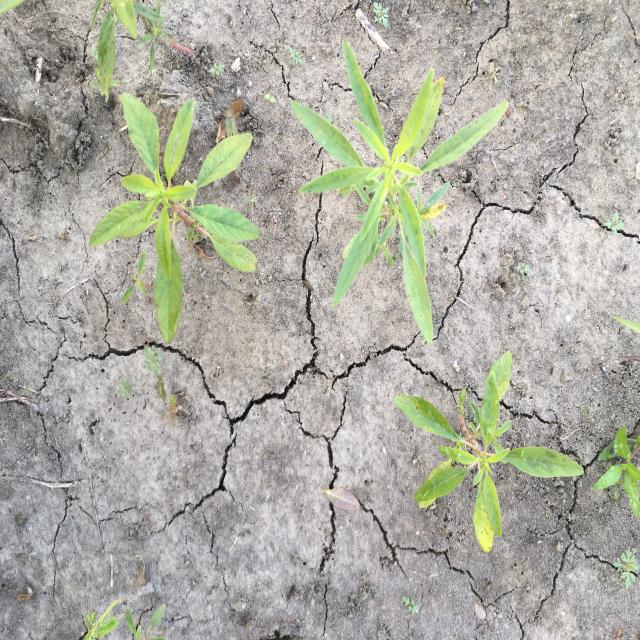Eclipta: (594, 421, 638, 517)
Ragweed: (614, 546, 638, 593)
Waterhemp: (289, 37, 511, 346), (88, 90, 262, 346), (392, 349, 584, 554), (87, 0, 194, 105)
